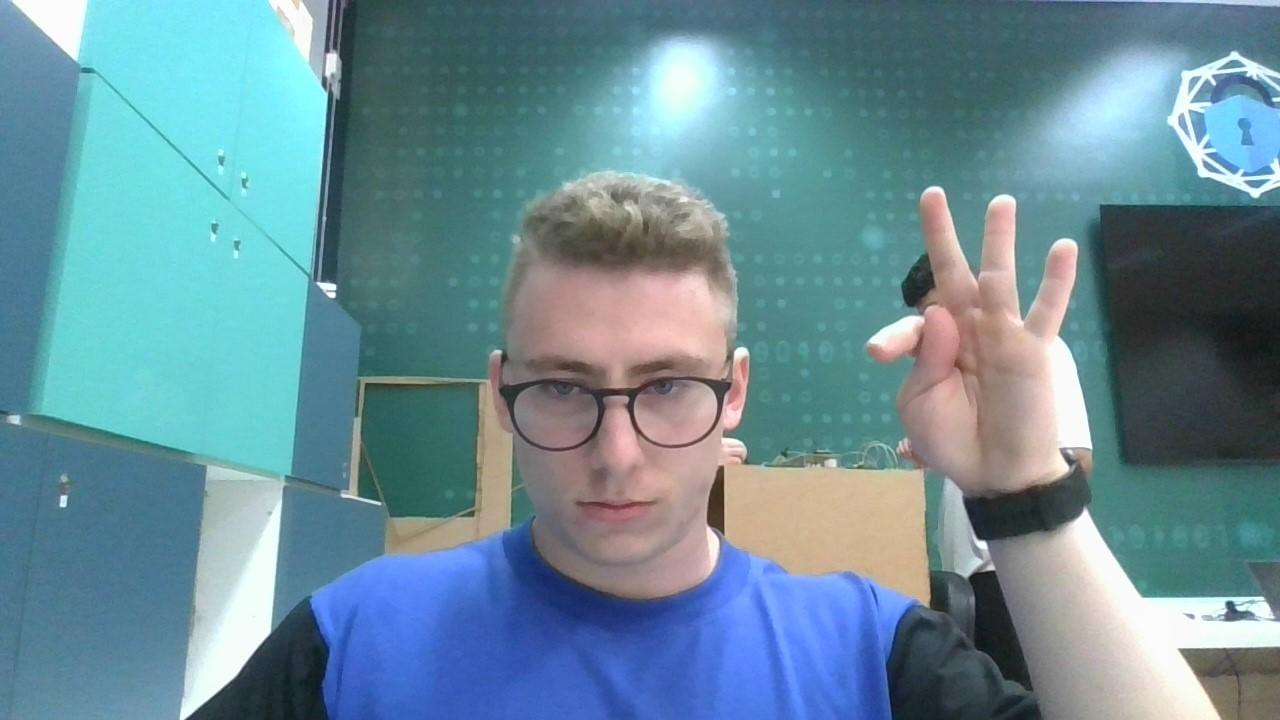T: (864, 176, 1086, 490)
